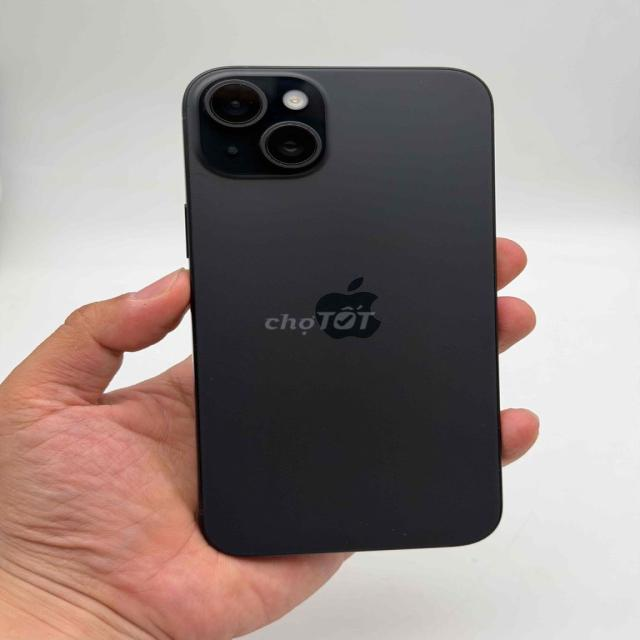gen_15: (170, 59, 519, 559)
